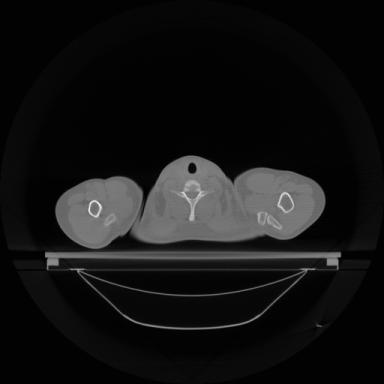body: (131, 155, 262, 243), (234, 167, 326, 240), (56, 176, 143, 249)
cord: (179, 179, 205, 223)
